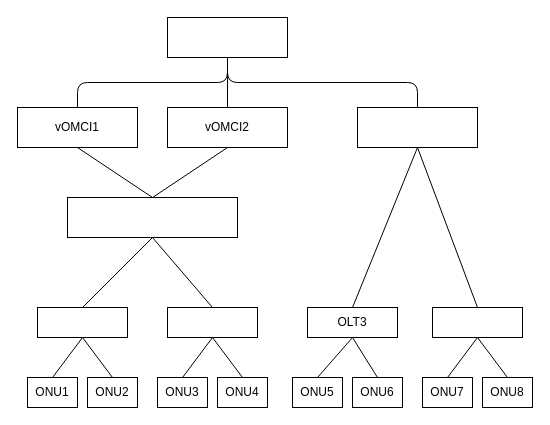
This 550x425 diagram has some shape labels left out. Each missing label, with the centre of its shape:
OLT1: point (82, 322)
OLT2: point (212, 322)
OLT4: point (477, 322)
vOLTMF Simulator: point (227, 37)
vOMCI-Proxy1: point (152, 217)
vOMCI3: point (417, 127)
